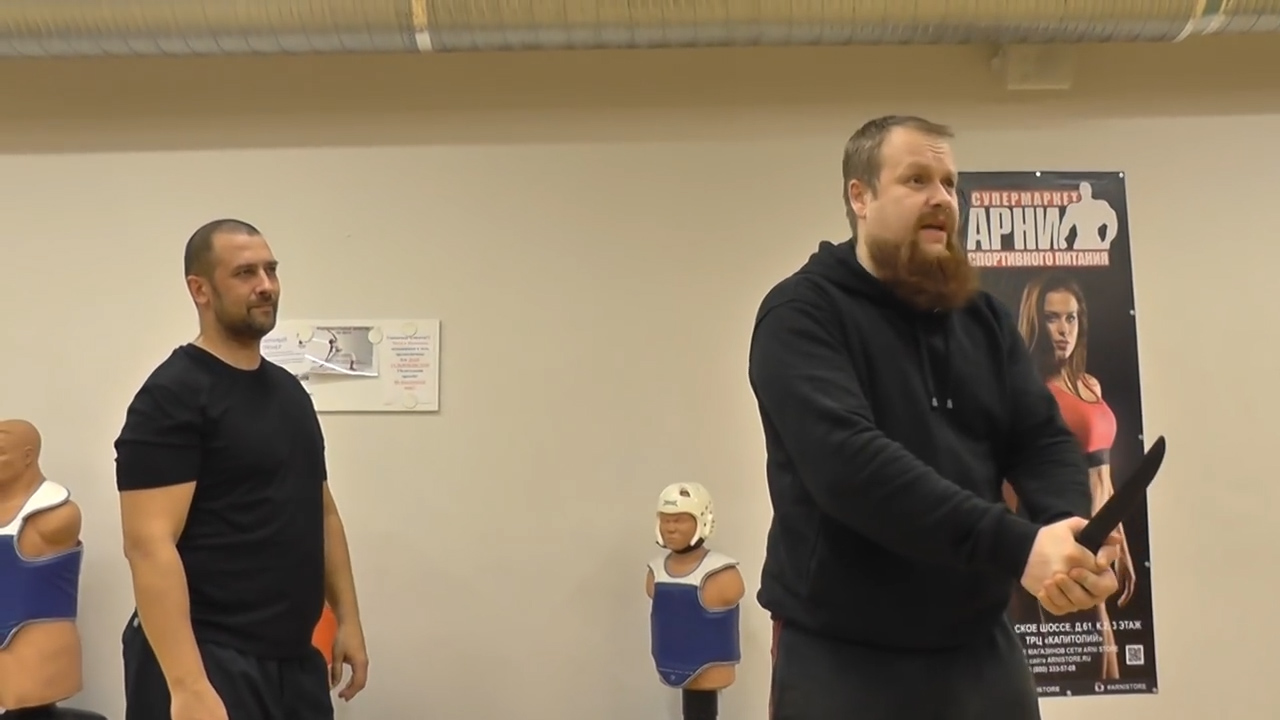knife: (1036, 427, 1167, 620)
